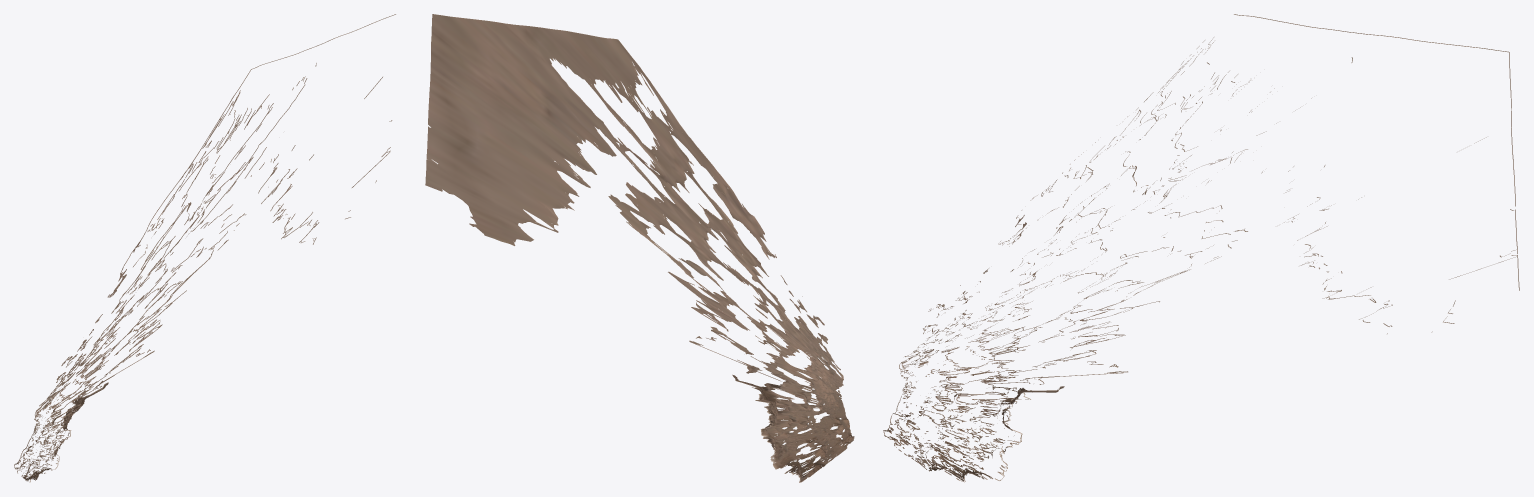
3 renders of one model, left to right at view 1: azimuth 30°, elevation 25°; view 2: azimuth 150°, elevation 25°; view 3: azimuth 330°, elevation 25°, orthographic. The views are drawn at different scales.
Size of the model in its own units: 53.24 by 48 by 8.19.
1 material, 1 textured.
